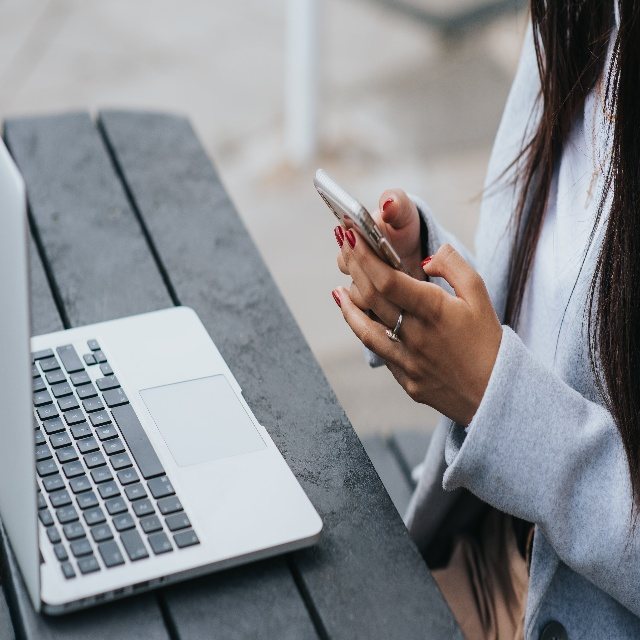Sin_guantes: (331, 218, 502, 431), (334, 182, 432, 308)
